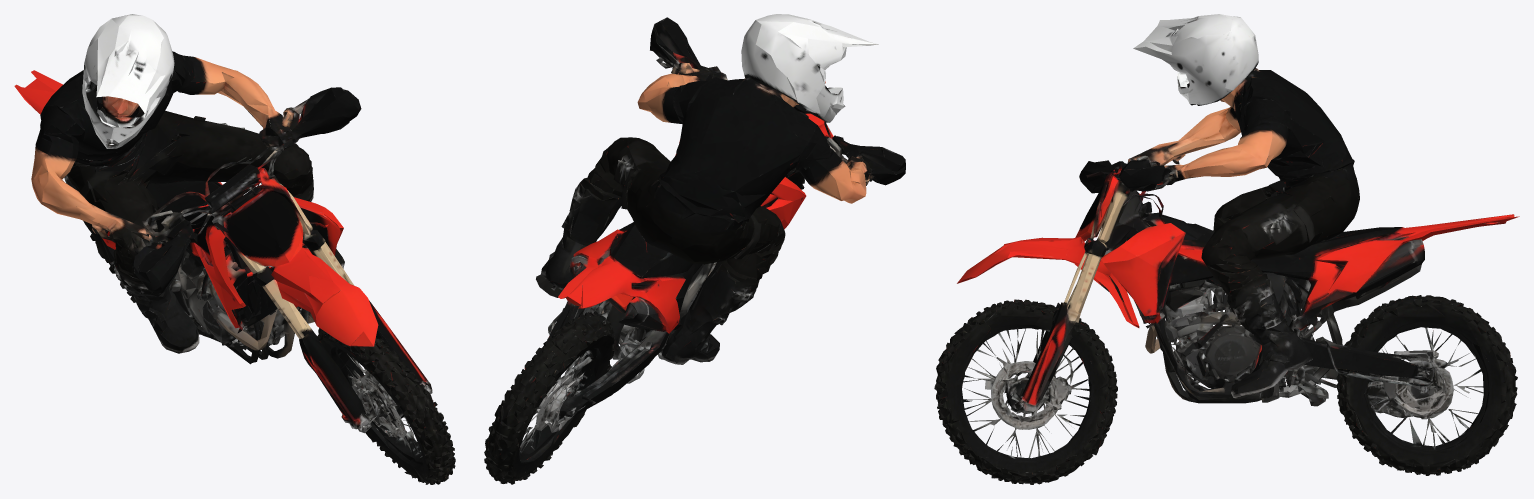
The model's file is gla6ndzKeKQ4tFJdAE4lu_model.glb.
3 views of the same model, side by side, from view 1: azimuth 30°, elevation 25°; view 2: azimuth 150°, elevation 25°; view 3: azimuth 270°, elevation 25° (orthographic). The views are drawn at different scales.
Bounding box in the file's own units: 1.08 × 1.4 × 1.9.
1 material, 1 textured.
